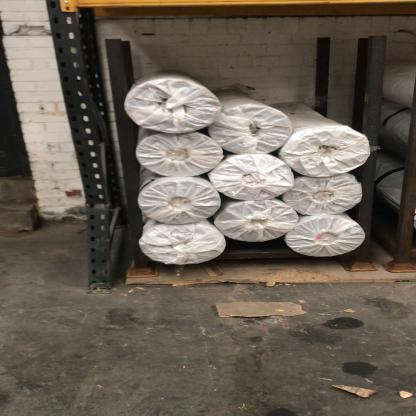vertical_damage: (72, 158, 119, 236)
